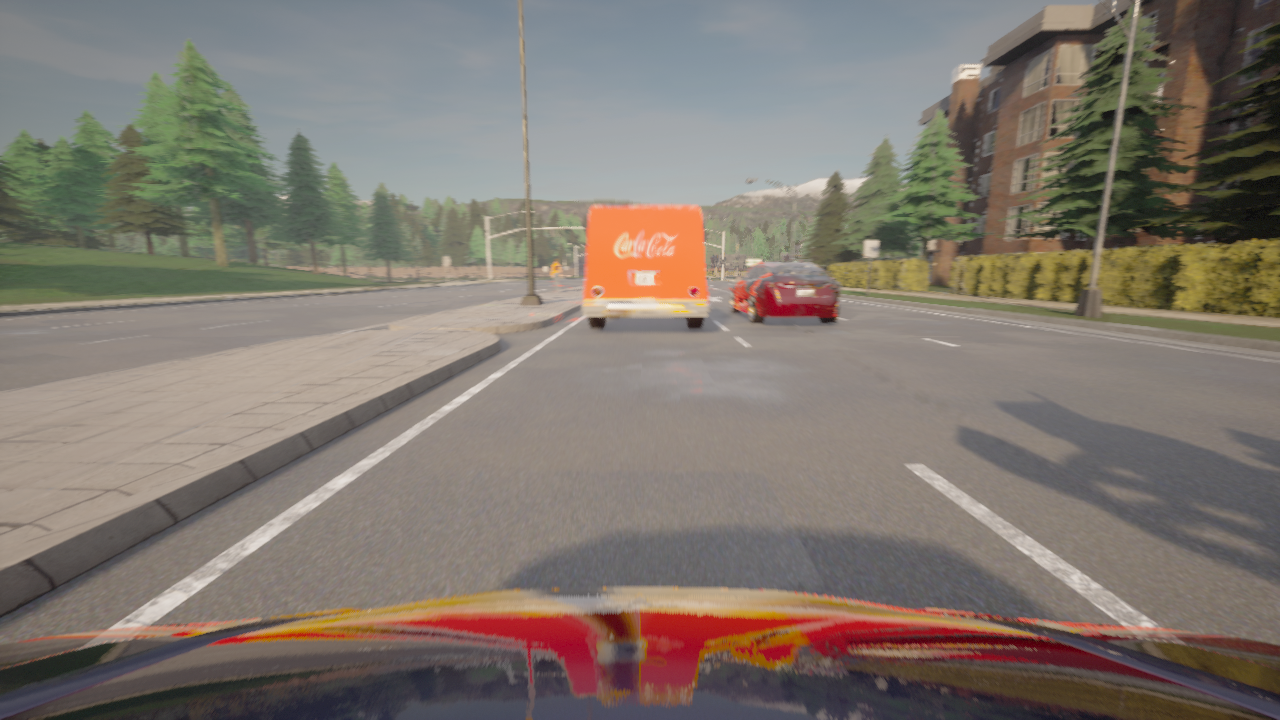cyclist: (0, 588, 1279, 719), (582, 206, 710, 329), (729, 262, 839, 323), (822, 269, 830, 277)
pedestrian: (552, 259, 560, 291)
